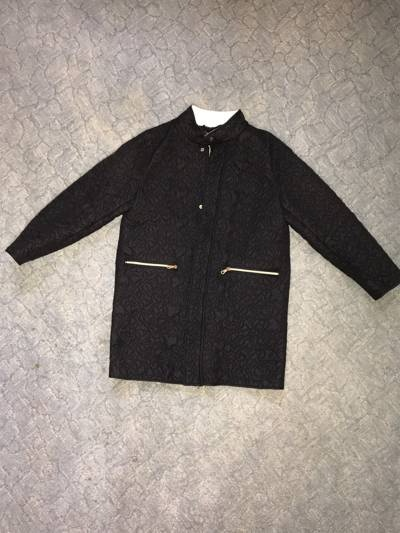Blazer: (16, 90, 377, 403)
